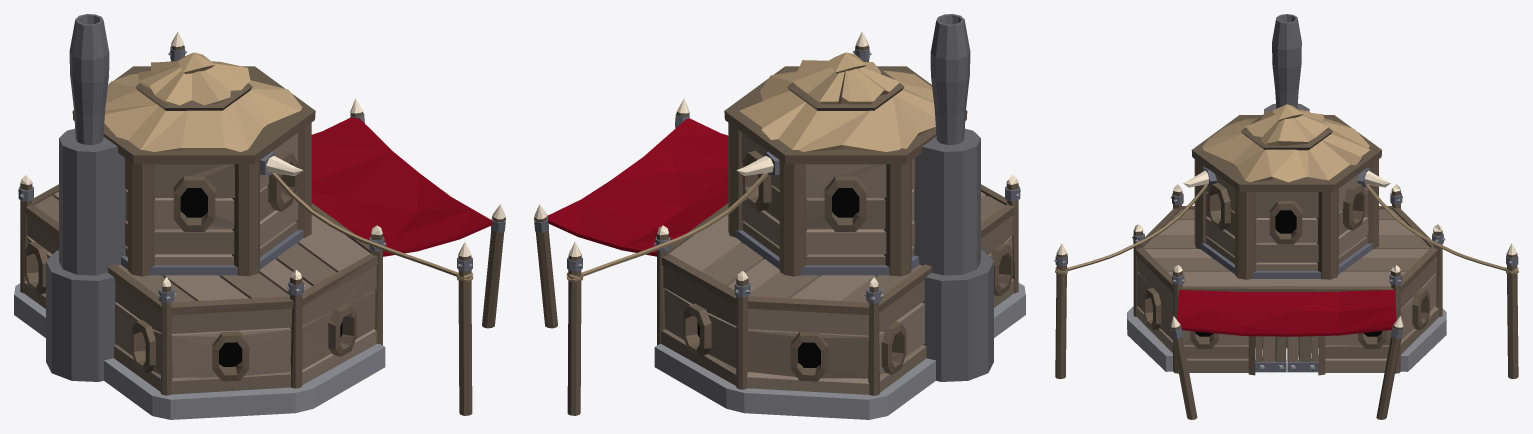
The model's file is tavern.fbx.
3 views of the same model, side by side, from view 1: azimuth 30°, elevation 25°; view 2: azimuth 150°, elevation 25°; view 3: azimuth 270°, elevation 25° (orthographic). The views are drawn at different scales.
Visible parts, largest first — view 1: tavern; view 2: tavern; view 3: tavern.
Part boxes in pixels (x1=…): tavern: x1=14, y1=14, x2=505, y2=419; tavern: x1=534, y1=14, x2=1025, y2=419; tavern: x1=1054, y1=14, x2=1518, y2=419.
Bounding box in the file's own units: 1459 × 1251 × 1955.
